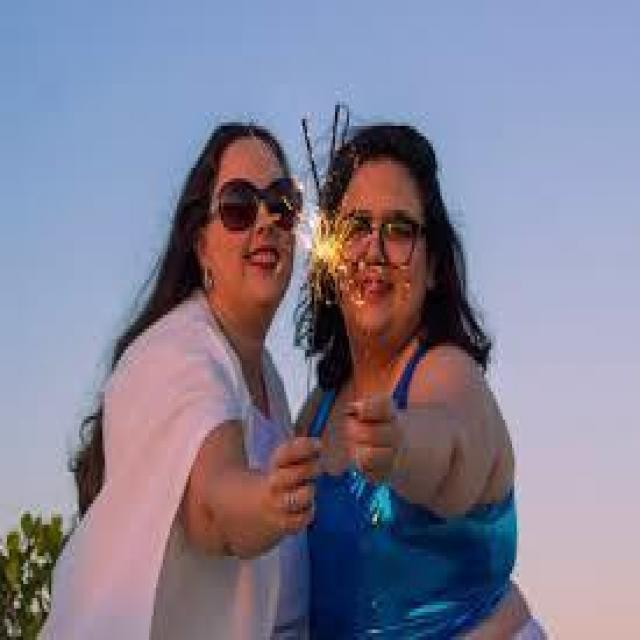person: (23, 24, 316, 636), (293, 73, 540, 626)
